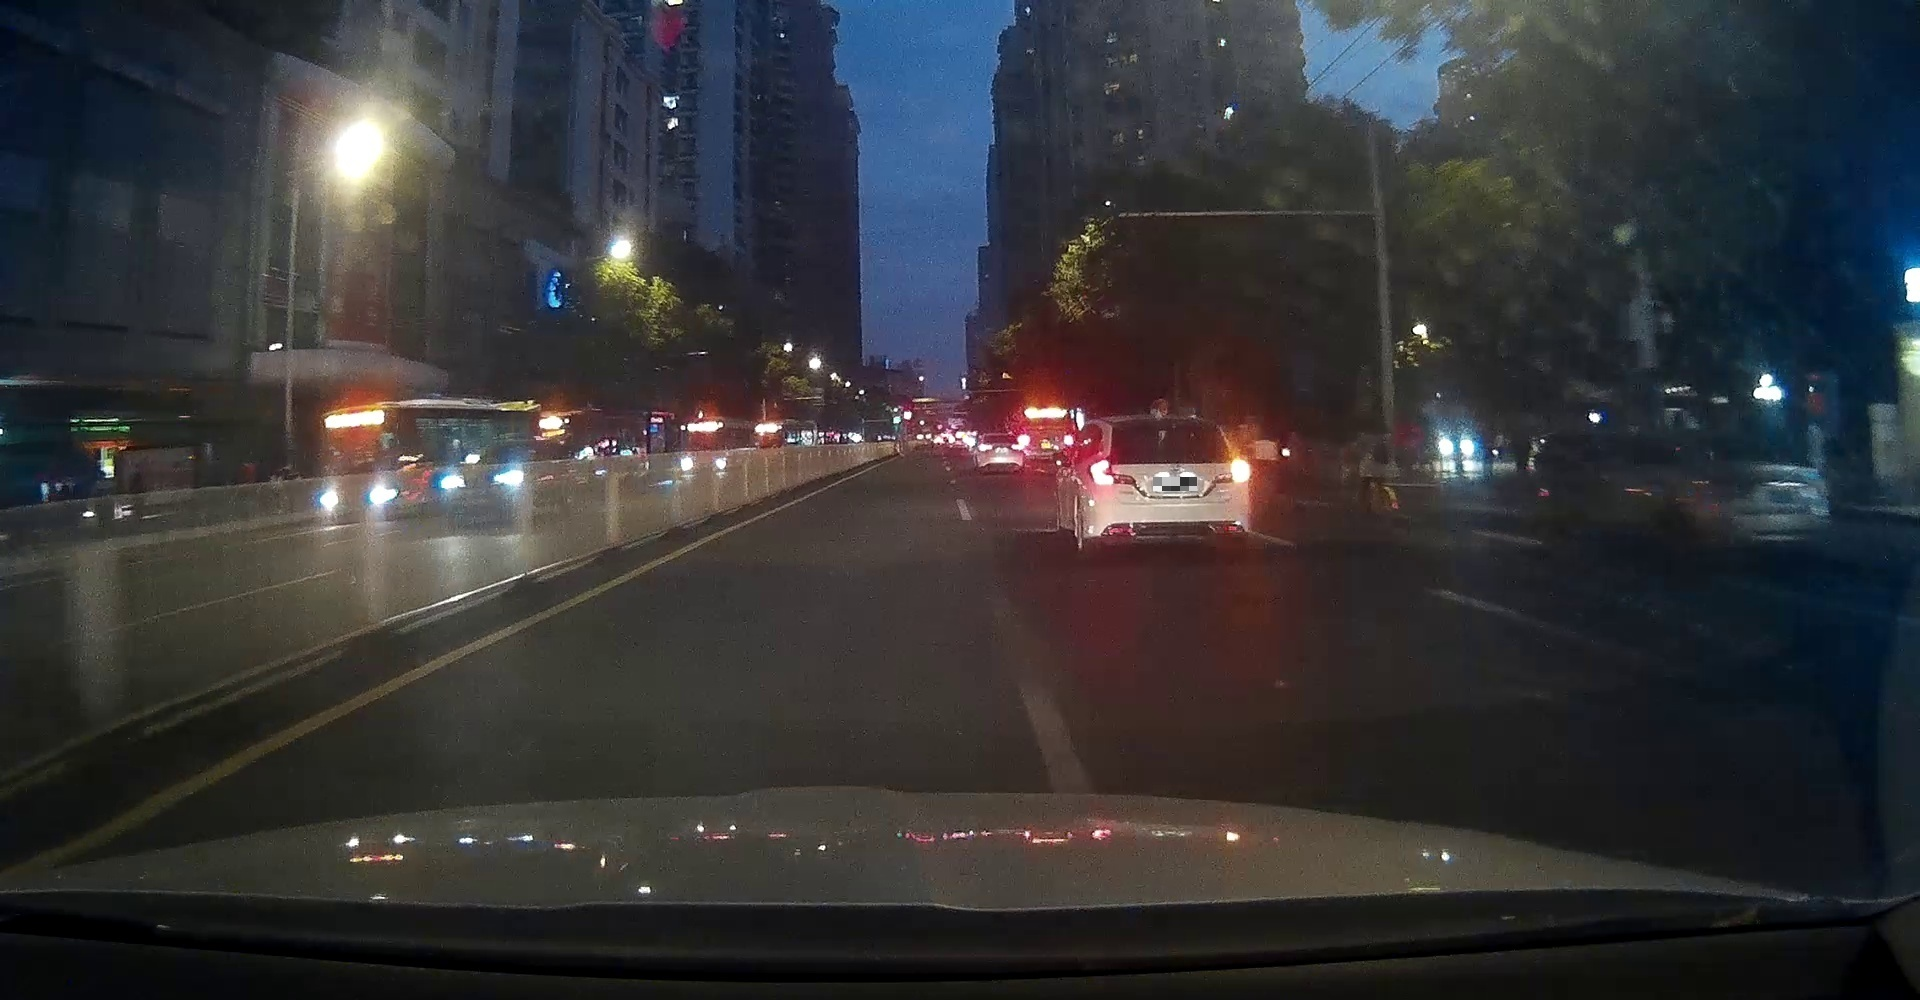L_light: (1087, 457, 1137, 486)
R_light: (1211, 459, 1250, 484)
T_light: (1152, 419, 1178, 423)
night-no: (1084, 412, 1251, 555)
plate_1: (1153, 477, 1197, 491)
